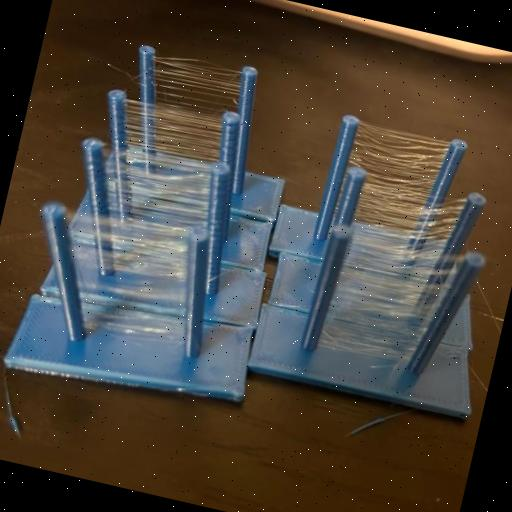stringing: (342, 252, 446, 310), (355, 191, 458, 249), (116, 148, 208, 204), (360, 129, 438, 187), (158, 58, 236, 108), (146, 106, 217, 158)
